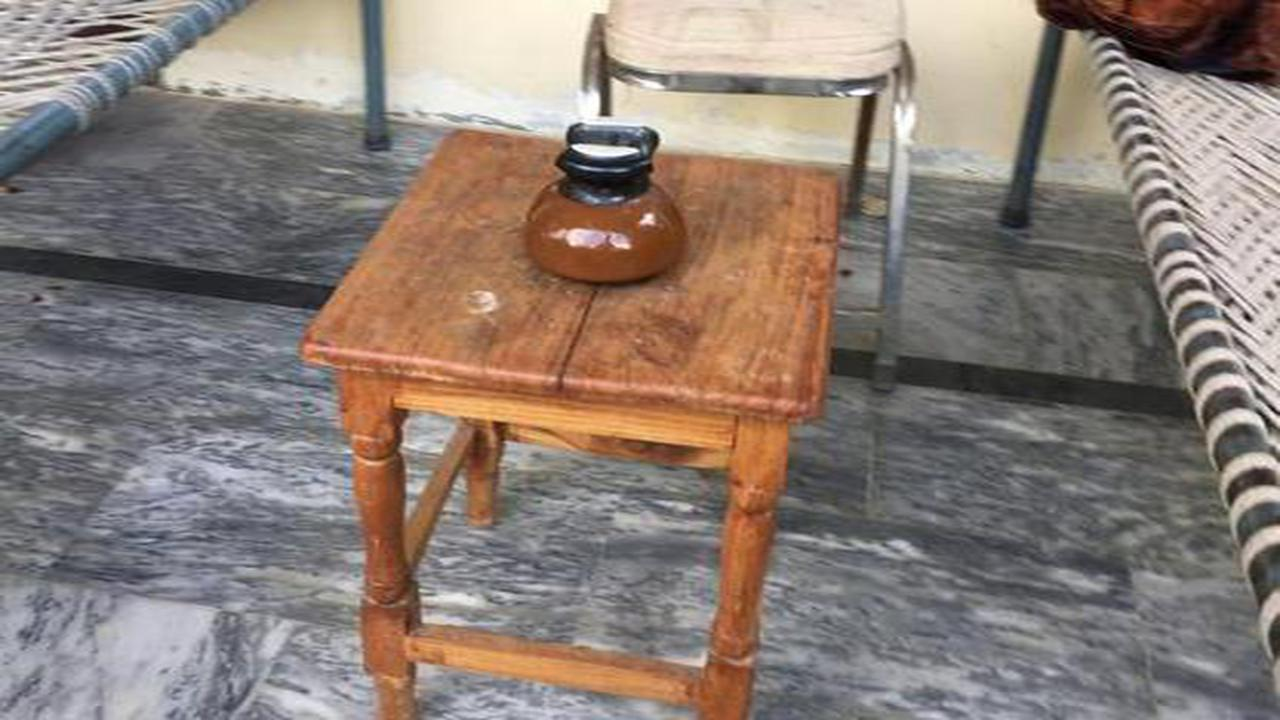insulator_pin: (505, 101, 705, 293)
